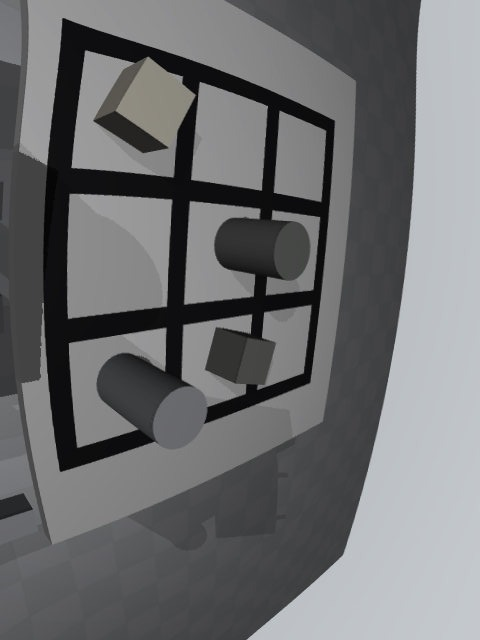can: (96, 353, 208, 450)
cube: (205, 327, 276, 385)
cylinder: (214, 218, 311, 281)
foam: (93, 57, 195, 153)
